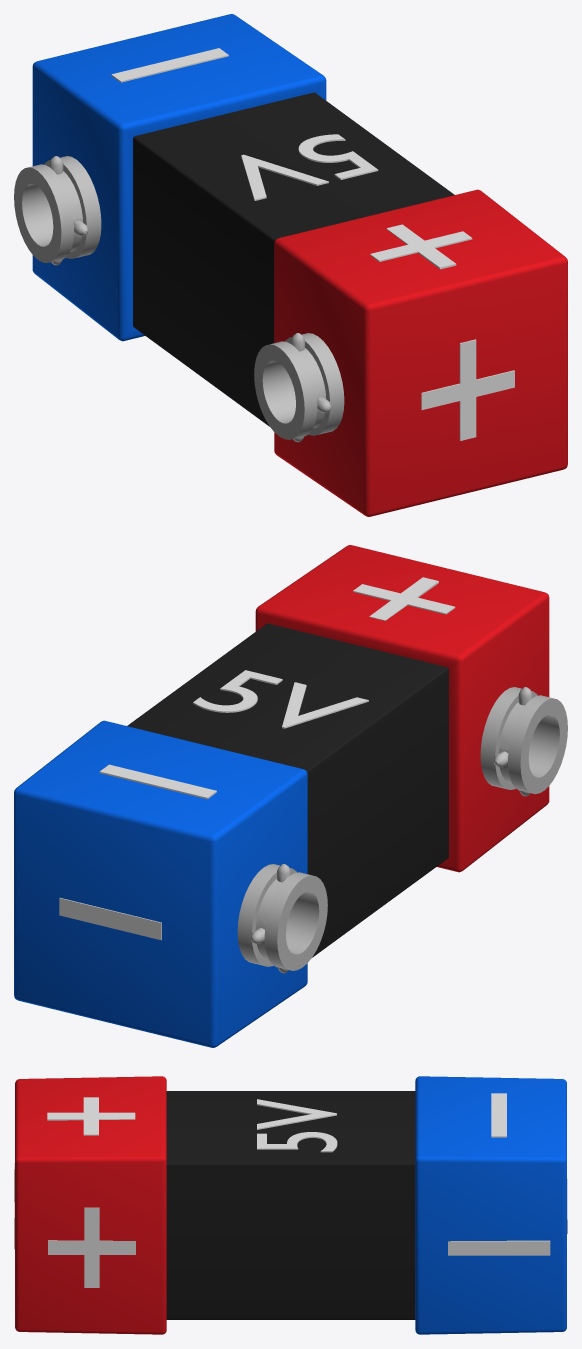
Rendered from Battery5V.fbx.
The picture shows the model from 3 angles, top to bottom: view 1: azimuth 30°, elevation 25°; view 2: azimuth 150°, elevation 25°; view 3: azimuth 270°, elevation 25°; orthographic projection. The views are drawn at different scales.
Parts seen in each view (by area): view 1: Cube, Circle, Text.002, Text, Text.001; view 2: Cube, Circle, Text.001, Text, Text.002; view 3: Cube, Text.002, Text.001, Text.
Boxes of the visible parts, x1=… form: Cube: x1=32, y1=14, x2=567, y2=516; Circle: x1=14, y1=156, x2=344, y2=442; Text.002: x1=370, y1=224, x2=514, y2=440; Text: x1=241, y1=134, x2=378, y2=200; Text.001: x1=111, y1=48, x2=228, y2=82; Cube: x1=14, y1=545, x2=549, y2=1047; Circle: x1=237, y1=687, x2=567, y2=973; Text.001: x1=59, y1=764, x2=216, y2=940; Text: x1=193, y1=670, x2=368, y2=728; Text.002: x1=353, y1=577, x2=455, y2=620; Cube: x1=15, y1=1076, x2=566, y2=1334; Text.002: x1=14, y1=1097, x2=135, y2=1287; Text.001: x1=448, y1=1093, x2=567, y2=1255; Text: x1=257, y1=1099, x2=337, y2=1152.
Size of the model in its own units: 138 by 117 by 328.
